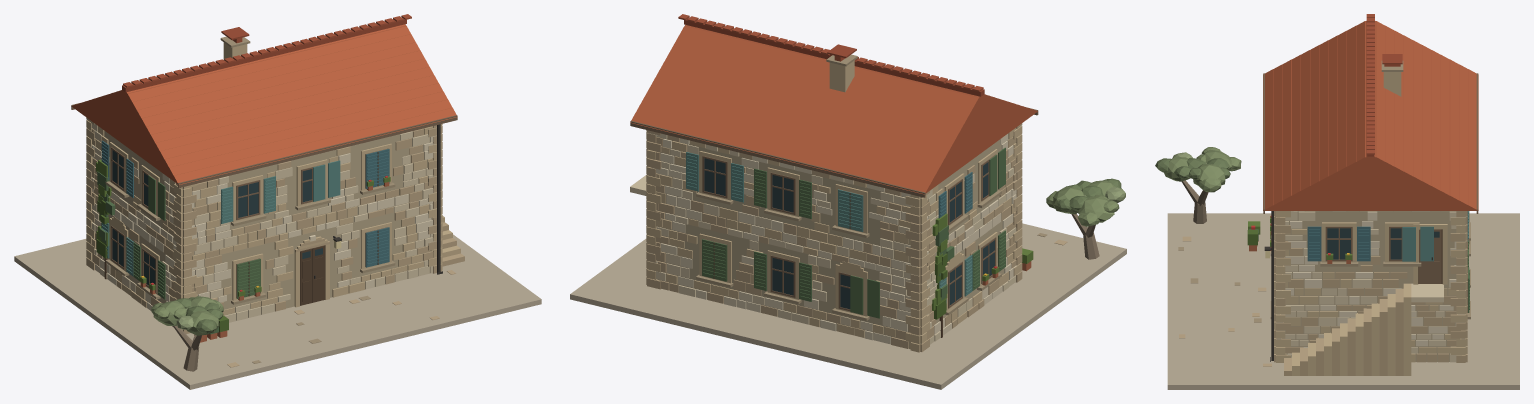
Rendered from ciftlik-evi-tas.glb.
The picture shows the model from 3 angles, left to right: view 1: azimuth 30°, elevation 25°; view 2: azimuth 150°, elevation 25°; view 3: azimuth 270°, elevation 25°; orthographic projection. The views are drawn at different scales.
Parts seen in each view (by area): view 1: kiremit1, zemin, tas2, harc, tas3, tas1, tas4, ahsap, kepenk2, cam, kepenk, yesil_kepenk (+11 smaller); view 2: kiremit1, zemin, tas2, tas3, harc, tas4, tas1, yesil_kepenk, ahsap, cam, kepenk2, tas_koyu (+7 smaller); view 3: kiremit1, zemin, tas2, tas3, harc, tas1, tas4, ahsap, zeytin1, kiremit2, cam, kepenk2 (+5 smaller).
Part boxes in pixels (box(x1,y1,x2,y2)): kiremit1: box(72, 24, 457, 184); zemin: box(14, 234, 541, 389); tas2: box(86, 42, 460, 315); harc: box(93, 128, 432, 317); tas3: box(86, 117, 464, 367); tas1: box(87, 123, 436, 326); tas4: box(88, 134, 441, 310); ahsap: box(71, 103, 457, 298); kepenk2: box(101, 160, 340, 276); cam: box(112, 150, 322, 285); kepenk: box(101, 140, 389, 267); yesil_kepenk: box(133, 175, 260, 299); kiremit1: box(630, 25, 1037, 194); zemin: box(570, 223, 1126, 389); tas2: box(646, 60, 1022, 352); tas3: box(646, 123, 1067, 351); harc: box(656, 135, 1013, 348); tas4: box(648, 133, 1019, 344); tas1: box(630, 132, 1021, 344); yesil_kepenk: box(702, 147, 1005, 318); ahsap: box(630, 107, 1038, 313); cam: box(704, 158, 994, 309); kepenk2: box(686, 152, 972, 302); tas_koyu: box(696, 54, 1046, 320); kiremit1: box(1263, 21, 1478, 210); zemin: box(1167, 213, 1519, 389); tas2: box(1274, 72, 1467, 375); tas3: box(1179, 211, 1467, 375); harc: box(1285, 211, 1456, 361); tas1: box(1275, 211, 1467, 362); tas4: box(1274, 211, 1466, 347); ahsap: box(1263, 73, 1478, 312); zeytin1: box(1164, 147, 1241, 192); kiremit2: box(1366, 14, 1400, 154); cam: box(1327, 228, 1439, 259); kepenk2: box(1402, 211, 1468, 261).
Bounding box in the file's own units: 15.59 × 9.64 × 13.46.
